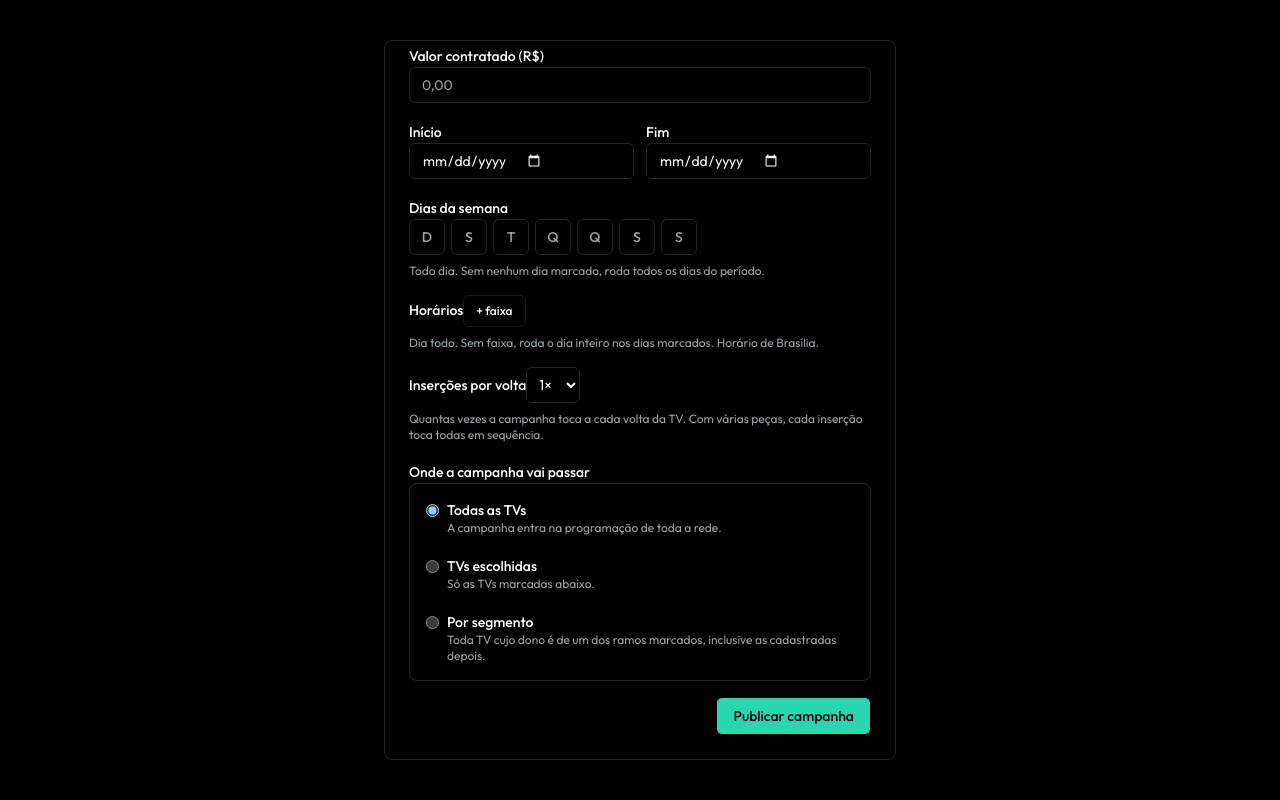
it: CampaignFormDialog › resposta velha chegando depois não sobrescreve a do alvo atual
(page scrolled)
Click the radio button labelled "TVs escolhidas Só as TVs marcadas abaixo.".
click(432, 566)  # box [426,560,439,573]
(page scrolled)
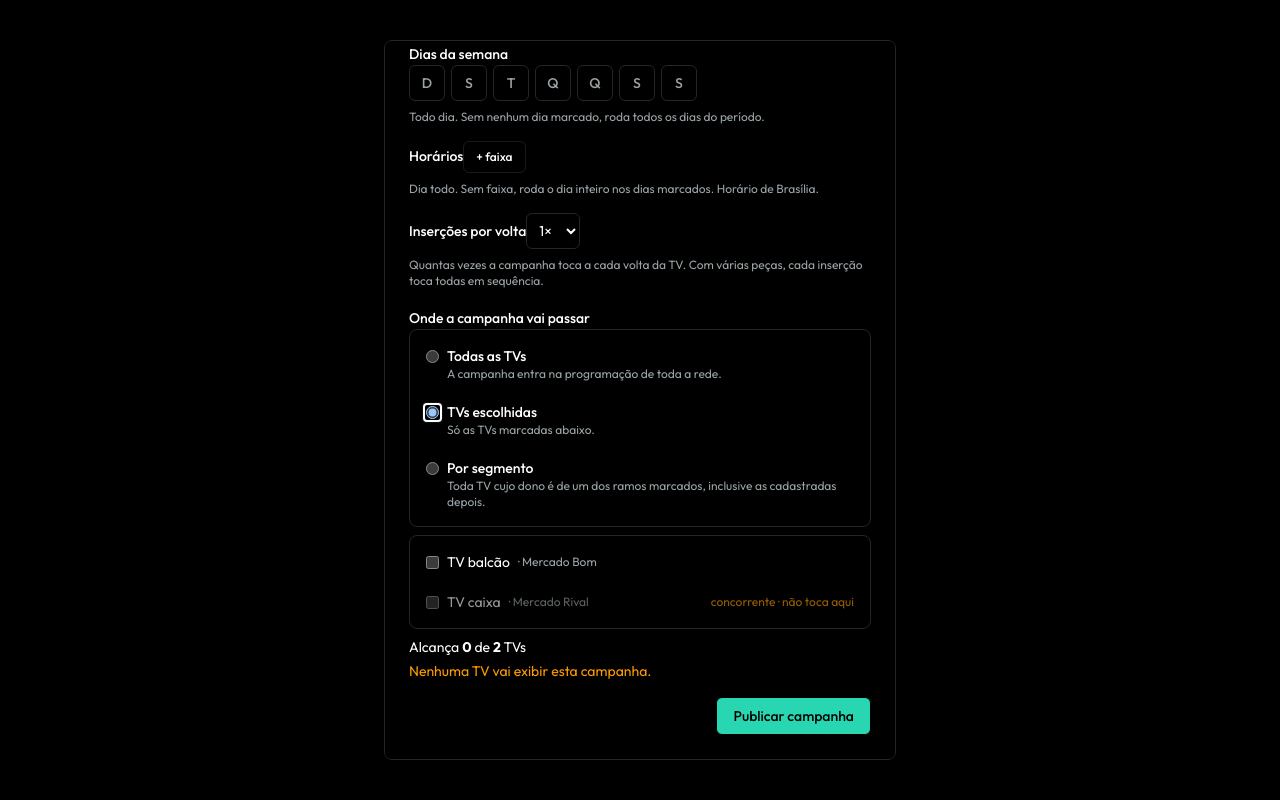
Now the element with test id "reach-summary" reads "Alcança 0 de 2 TVs", box [409,638,526,656]
